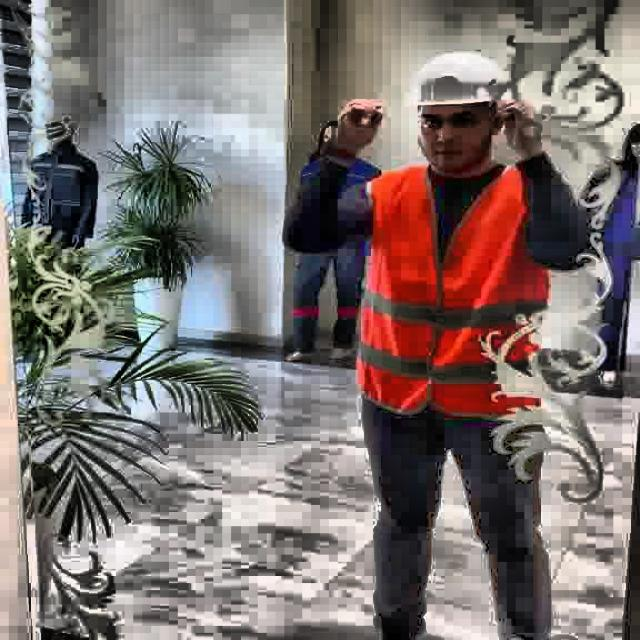safety_helmet: (414, 49, 514, 107)
safety_jacket: (357, 161, 550, 427)
